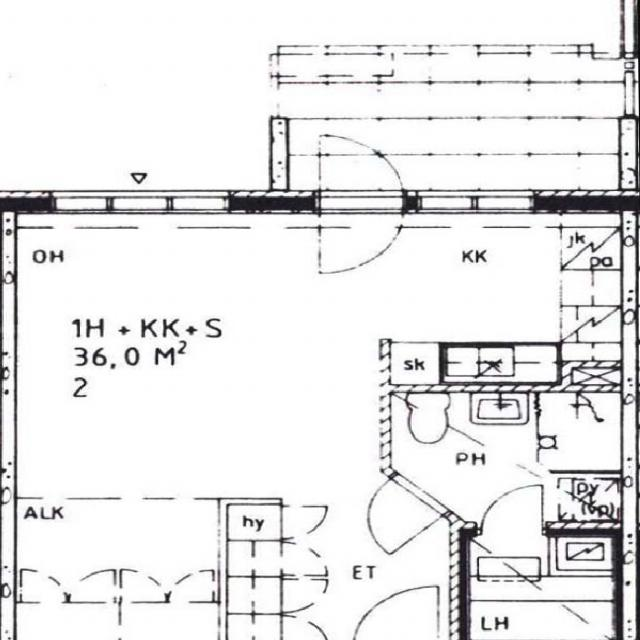door: (339, 473, 449, 552), (319, 190, 402, 273), (319, 130, 402, 213), (352, 586, 438, 640), (482, 478, 542, 538)
